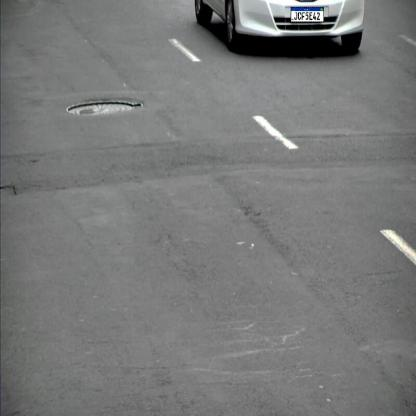PlacaM: (291, 7, 324, 22)
